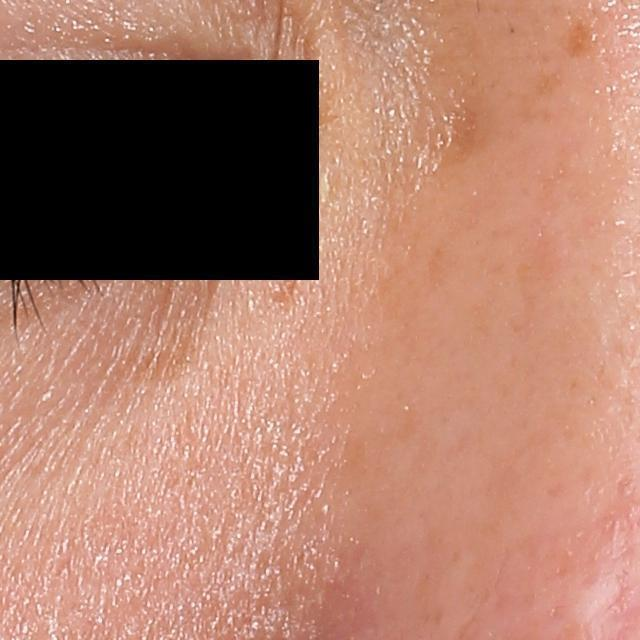melasma: (556, 14, 603, 61)
other: (422, 102, 478, 169)
